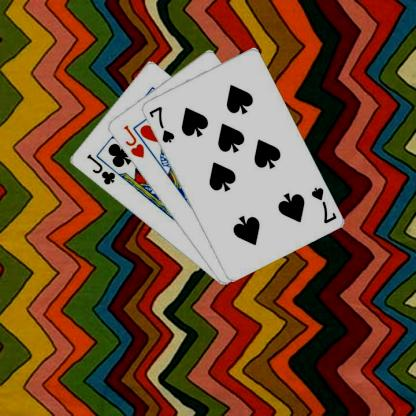7S: (146, 104, 176, 144), (308, 184, 337, 225)
JC: (84, 151, 116, 186)
JH: (120, 122, 146, 159)
